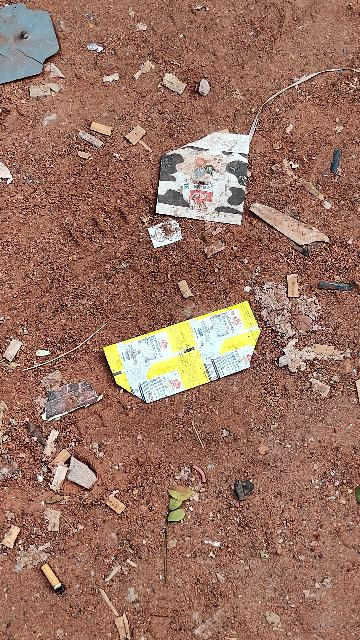packet: (111, 295, 260, 395), (169, 102, 262, 219)
